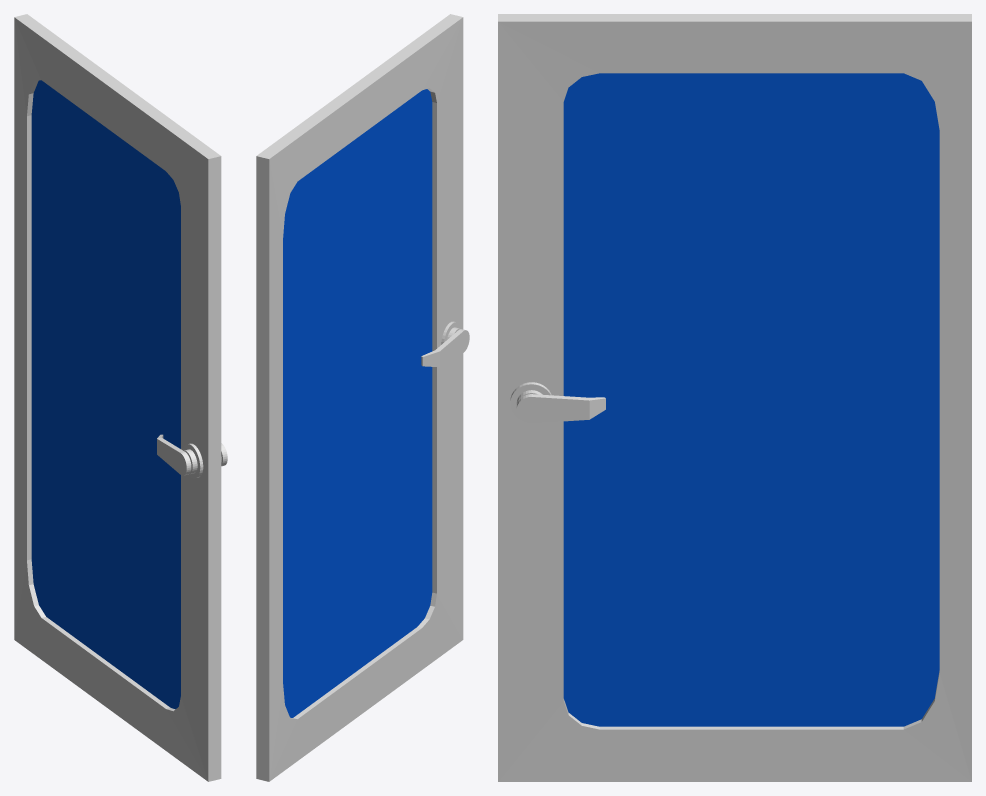
Rendered from QSDoor.fbx.
The picture shows the model from 3 angles, left to right: view 1: azimuth 30°, elevation 25°; view 2: azimuth 150°, elevation 25°; view 3: azimuth 270°, elevation 25°; orthographic projection. The views are drawn at different scales.
Visible parts, largest first — view 1: door window 1; view 2: door window 1; view 3: door window 1.
Part boxes in pixels (<box>): door window 1: <box>14,14,227,781</box>; door window 1: <box>256,14,469,781</box>; door window 1: <box>498,14,971,781</box>.
Size of the model in its own units: 4.22 by 61.33 by 34.65.
